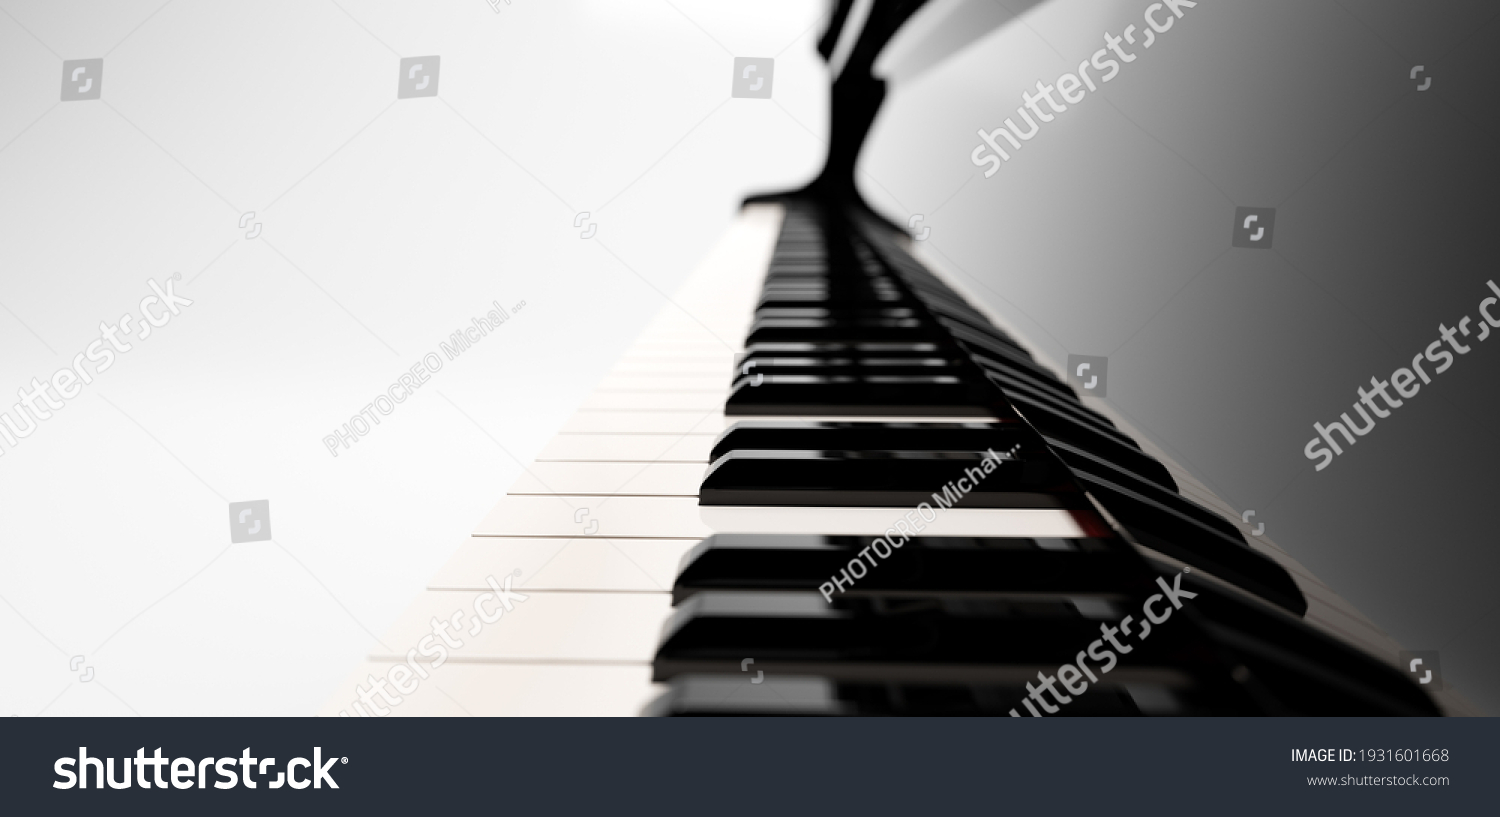Piano: (254, 59, 1500, 717)
